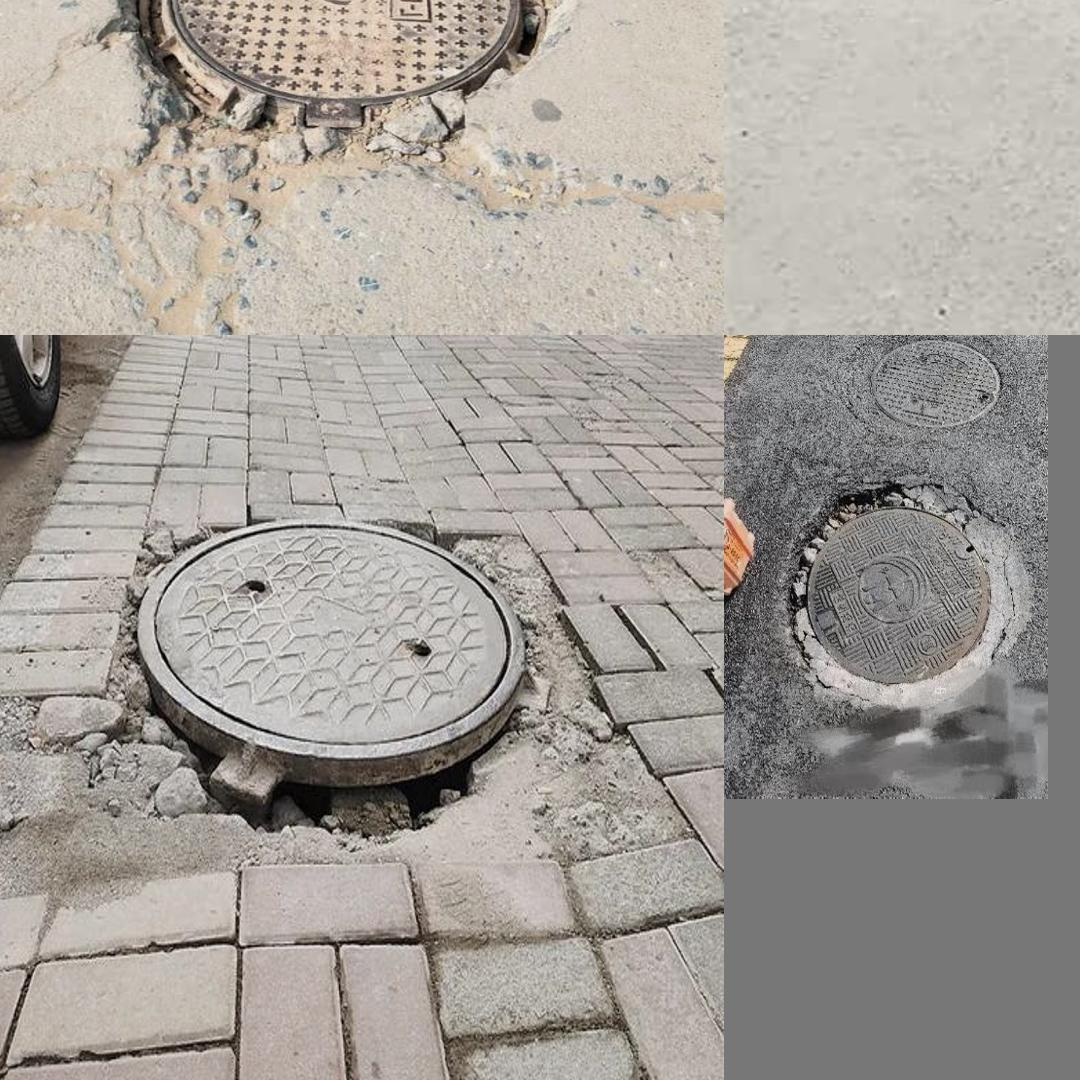circle: (65, 498, 670, 910), (68, 0, 607, 174), (788, 483, 1027, 718)
good: (868, 339, 1004, 429)
